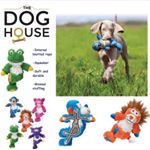puppy: (87, 15, 136, 83)
